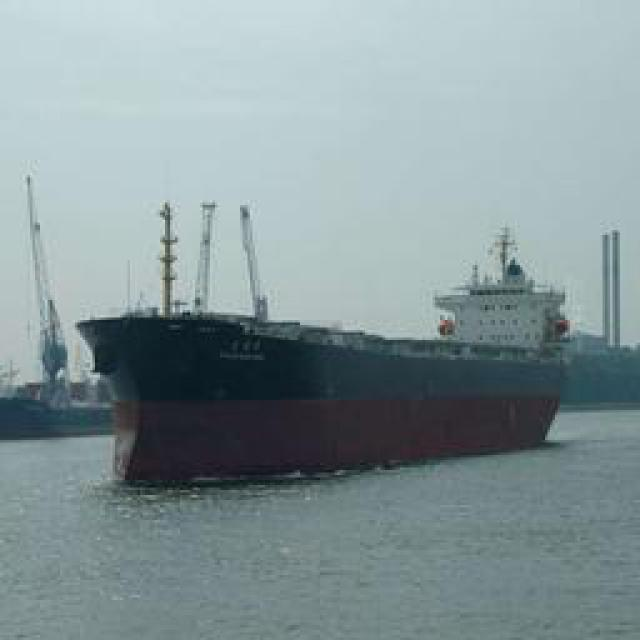Ship: (67, 200, 570, 483)
